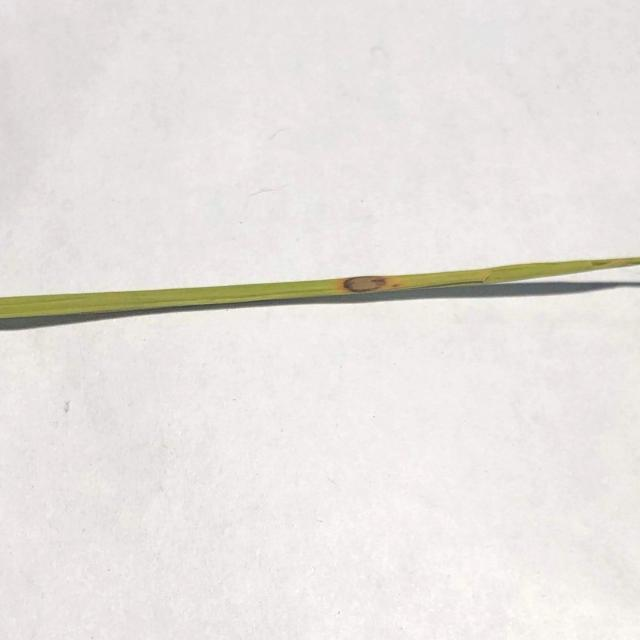Blast: (344, 280, 397, 294)
